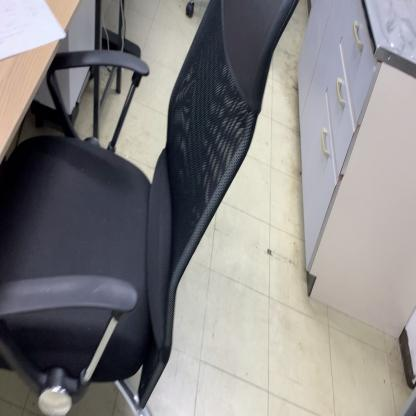chair: (0, 0, 304, 416)
